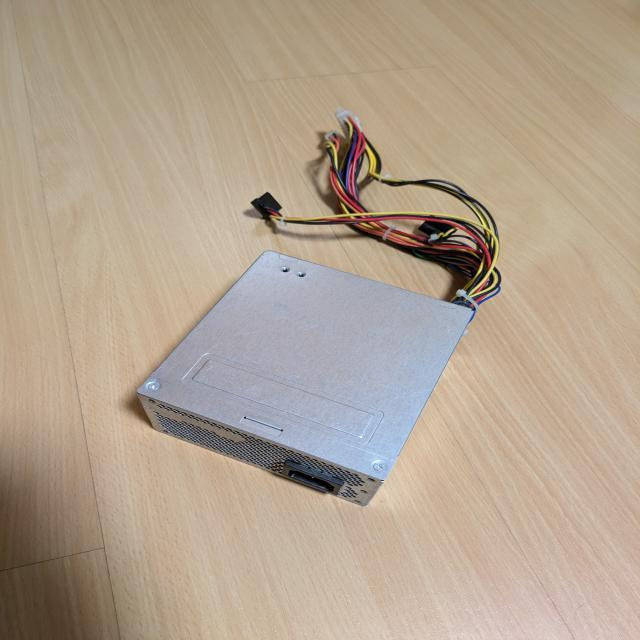PSU: (136, 249, 474, 507)
